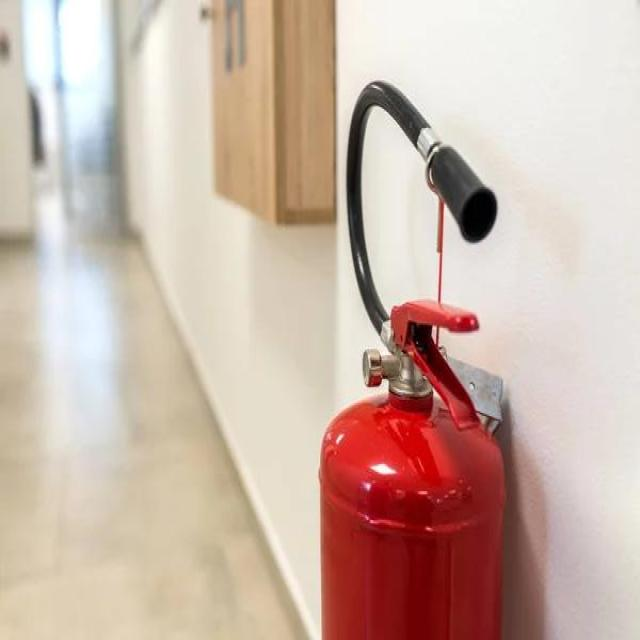fire_extinguisher: (309, 76, 513, 638)
